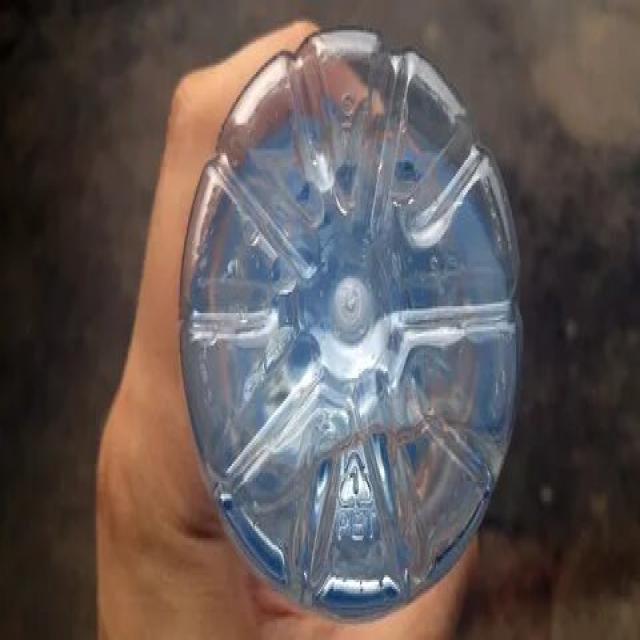blue: (179, 30, 523, 614)
